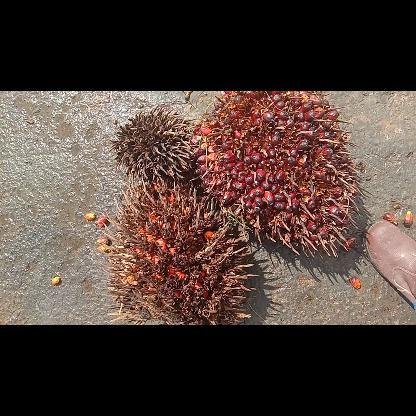Janjang kosong: (107, 104, 197, 184)
TBS masak: (191, 91, 363, 255)
Terlalu masak: (96, 178, 260, 324)
